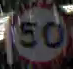Speed limit: (7, 2, 69, 63)
